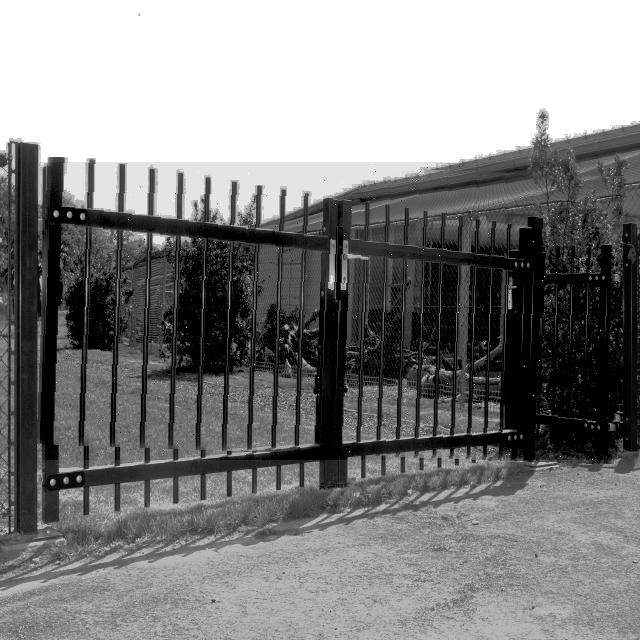fences: (40, 162, 622, 460)
